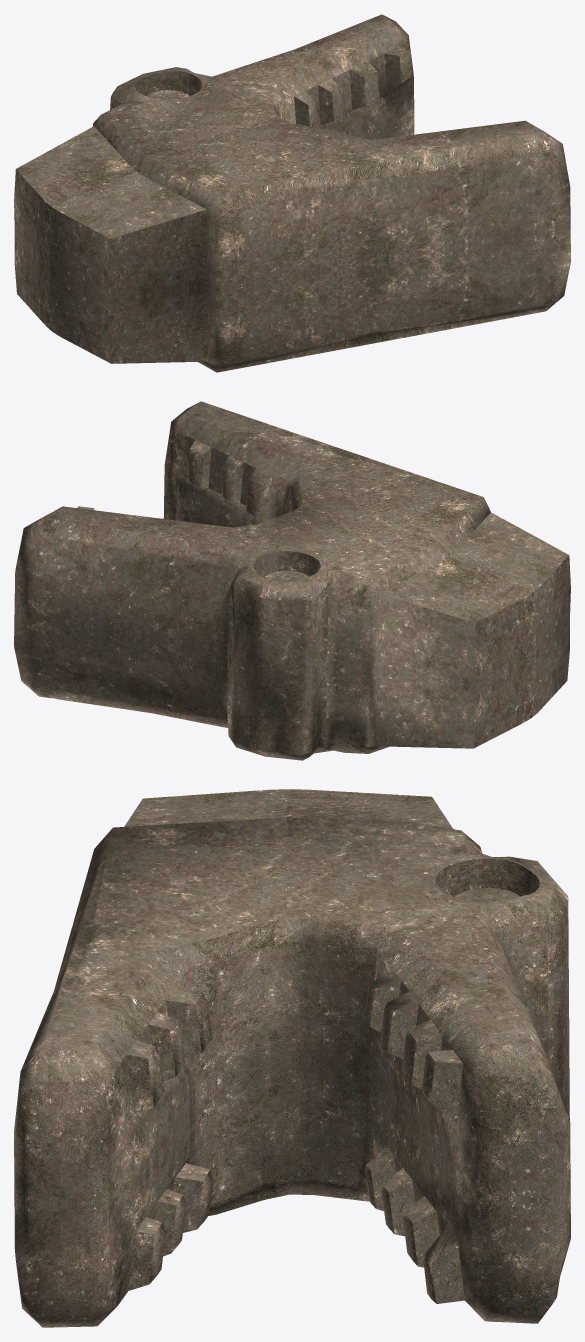
File: mdl_franch_Snake_Head.gltf
3 renders of one model, top to bottom at view 1: azimuth 30°, elevation 25°; view 2: azimuth 150°, elevation 25°; view 3: azimuth 270°, elevation 25°, orthographic. The views are drawn at different scales.
Parts seen in each view (by area): view 1: head; view 2: head; view 3: head.
Part boxes in pixels (x1=…): head: x1=14, y1=14, x2=570, y2=372; head: x1=14, y1=401, x2=570, y2=760; head: x1=14, y1=789, x2=570, y2=1327.
Size of the model in its own units: 1.61 by 0.6467 by 1.15.
1 material, 1 textured.
